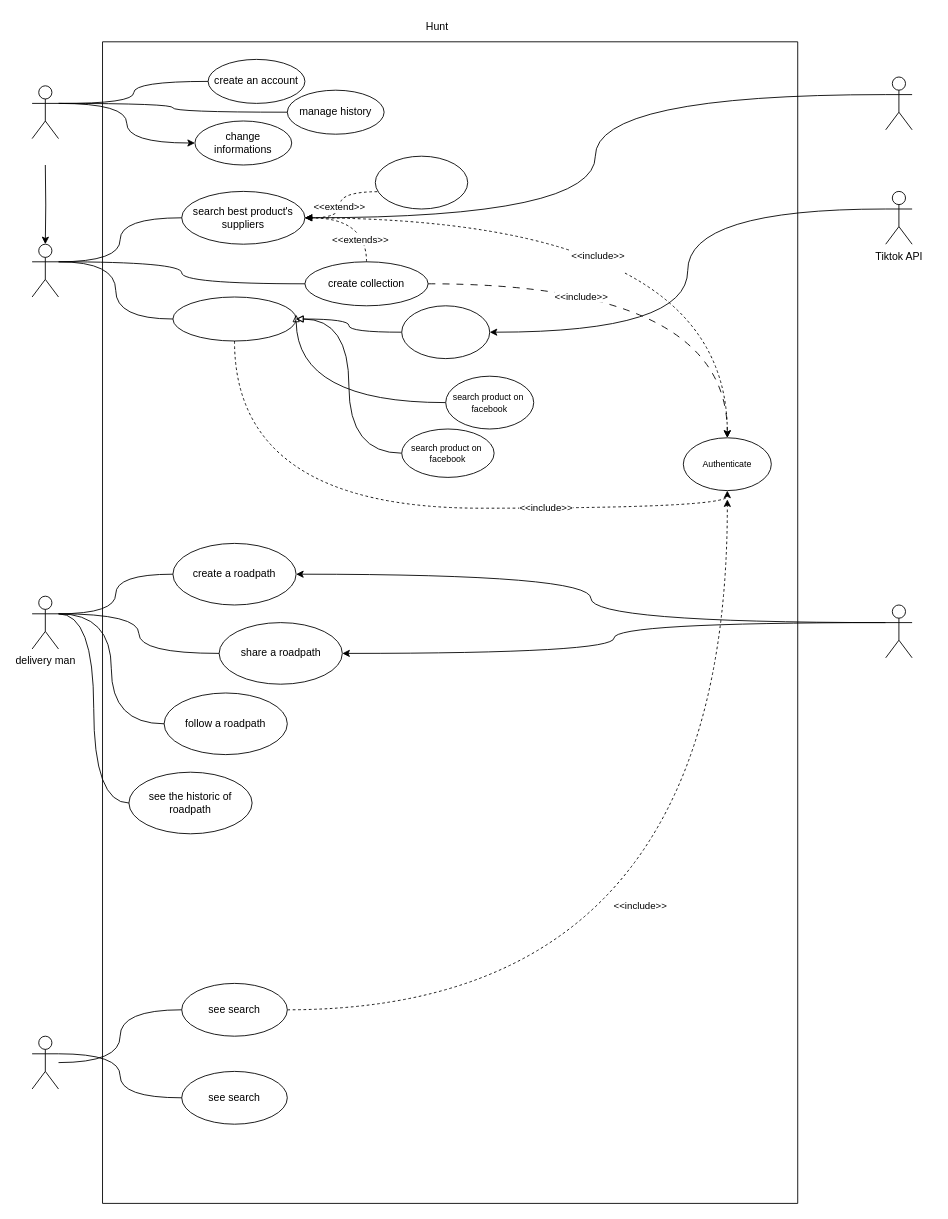
This 948x1219 diagram has some shape labels left out. The box of each missing label's shape, as (x1, y1, x2, y2) in pixels:
Admin: (31, 1035, 59, 1089)
Aliexpress API: (885, 76, 912, 130)
Business: (31, 243, 59, 297)
Google Maps API: (885, 604, 912, 658)
note the application: (374, 155, 468, 209)
search product: (172, 296, 296, 341)
search product on tiktok: (401, 305, 490, 359)
simple user: (31, 85, 59, 139)
